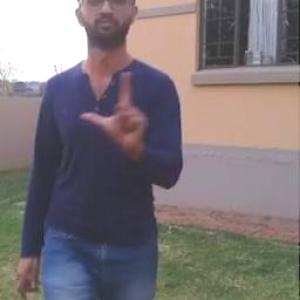land_hand: (78, 66, 152, 152)
